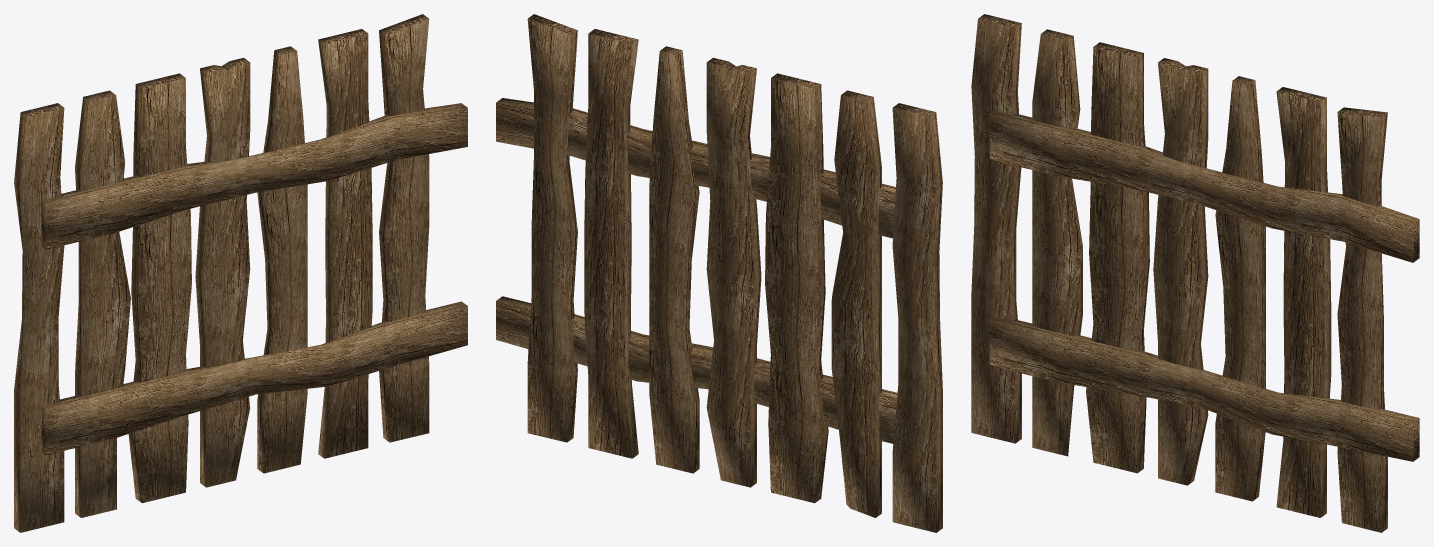
The model's file is fence.dae.
3 views of the same model, side by side, from view 1: azimuth 30°, elevation 25°; view 2: azimuth 150°, elevation 25°; view 3: azimuth 330°, elevation 25° (orthographic).
Visible parts, largest first — view 1: meshU3D; view 2: meshU3D; view 3: meshU3D.
Boxes of the visible parts, <box> form: meshU3D: <box>14,14,467,532</box>; meshU3D: <box>496,14,942,532</box>; meshU3D: <box>971,14,1419,532</box>.
Size of the model in its own units: 8.97 by 8 by 0.3481.
